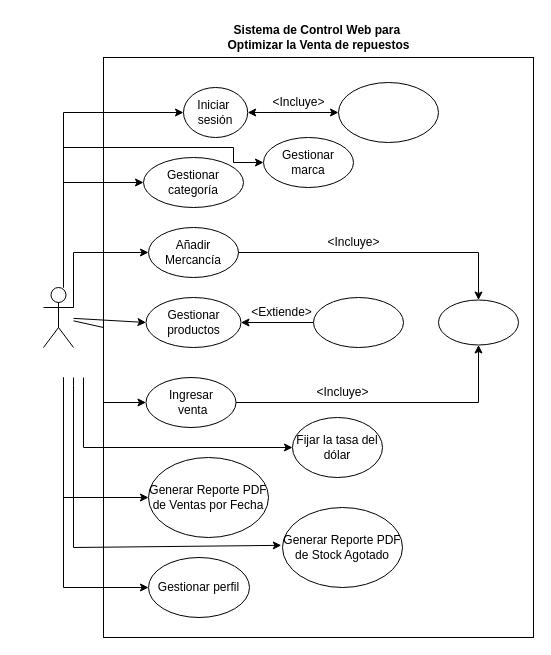
The diagram is 551 pixels wide and 655 high, and some of its shapes have lost their labels. Each missing label, with the centre of its shape:
"Actualizar Stock" goes at (478,322).
"Administrador" goes at (58,317).
"Ajustar stock manualmente" goes at (358,322).
"Verificación de credenciales" goes at (388,112).
